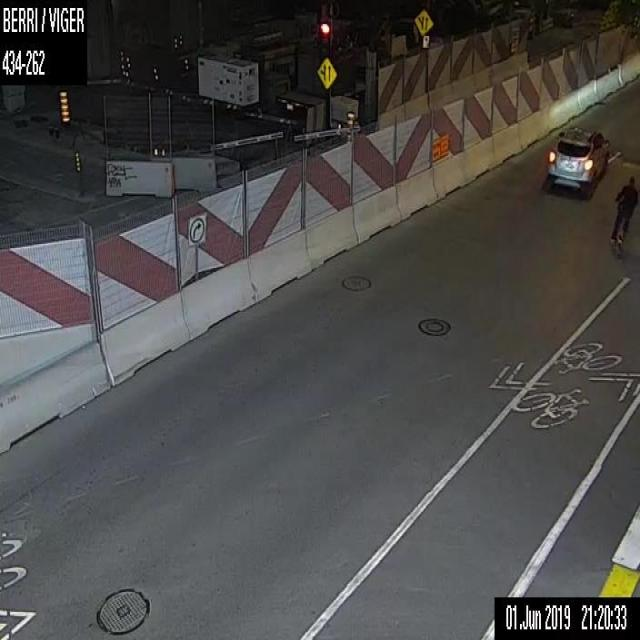construction: (58, 91, 69, 129), (346, 110, 354, 142)
pedestrian: (608, 173, 637, 252)
vehicle: (544, 123, 610, 196)
